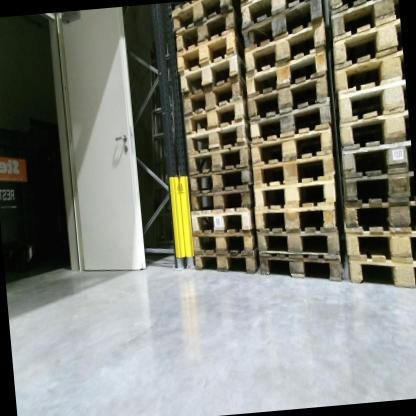pallet: (242, 43, 331, 103), (239, 0, 328, 54), (341, 212, 416, 273), (329, 15, 404, 75), (244, 23, 330, 73), (246, 99, 335, 146), (253, 243, 344, 288), (254, 224, 343, 269), (247, 200, 344, 241), (327, 0, 402, 51), (338, 107, 411, 157), (250, 150, 339, 191), (246, 123, 335, 164), (170, 3, 244, 52), (175, 50, 247, 100), (241, 82, 332, 120), (338, 169, 415, 213), (345, 249, 416, 296), (334, 76, 408, 121), (340, 137, 414, 182), (175, 30, 247, 76), (332, 51, 405, 96), (342, 195, 416, 239), (181, 92, 251, 137), (183, 116, 253, 161), (253, 180, 341, 213), (181, 78, 248, 119), (240, 0, 325, 30), (185, 136, 252, 174), (191, 222, 257, 260), (169, 0, 236, 36), (187, 159, 256, 193), (192, 246, 260, 280), (190, 203, 256, 238), (190, 186, 254, 218), (328, 0, 399, 15)
